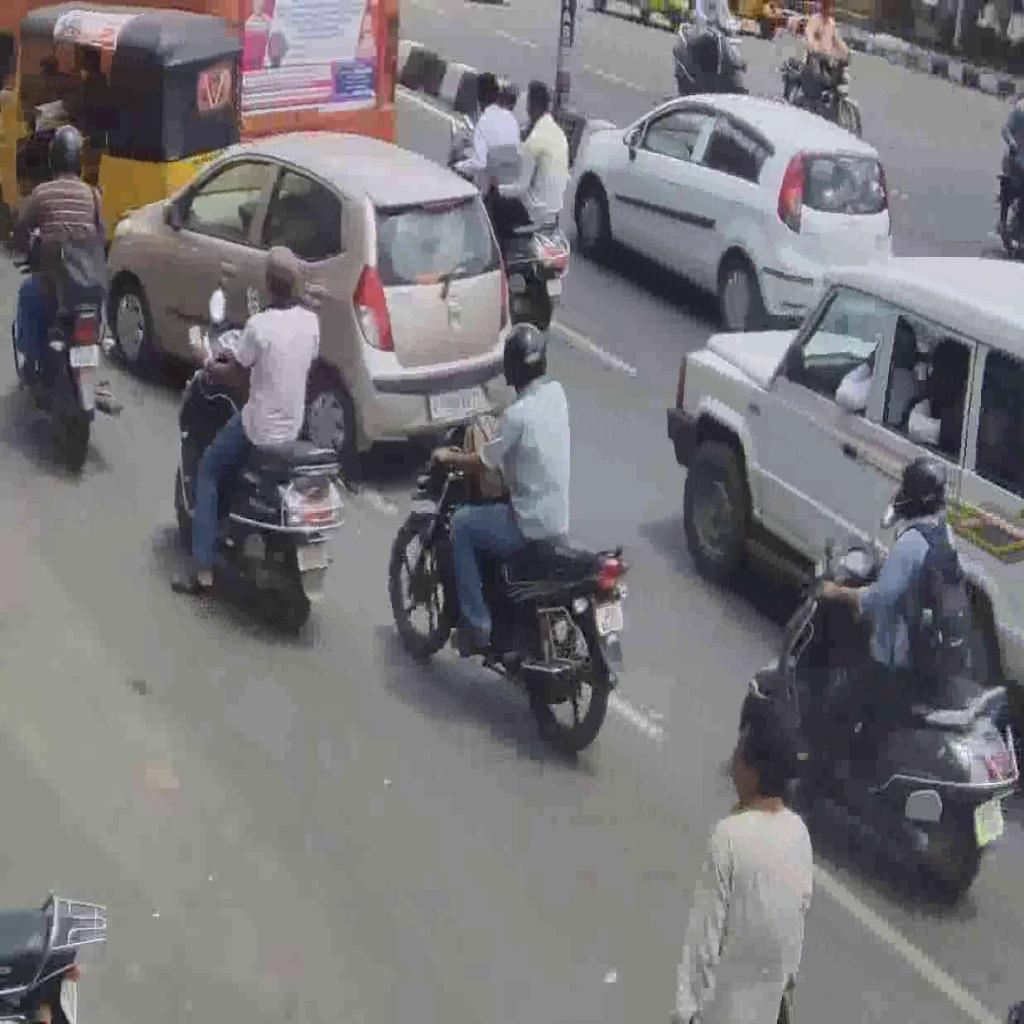bike: (738, 533, 1018, 908), (386, 418, 631, 755), (173, 324, 348, 634), (2, 221, 124, 473), (445, 134, 571, 333)
helmet: (891, 453, 951, 522), (500, 319, 549, 390), (48, 124, 86, 177)
lisc: (974, 798, 1004, 848), (596, 600, 624, 636), (296, 542, 328, 572), (70, 344, 98, 366), (546, 278, 562, 296)
no_helmet: (264, 243, 300, 298), (525, 78, 550, 123), (476, 71, 500, 112)
noise: (779, 2, 864, 143), (671, 0, 750, 97)
rider: (790, 452, 970, 820), (172, 243, 320, 598), (429, 320, 572, 657), (10, 123, 114, 387), (485, 78, 570, 242), (452, 70, 520, 200)
